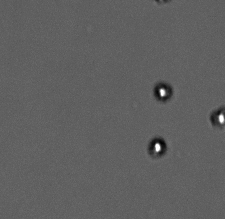Living Cell: (147, 136, 168, 157), (153, 81, 172, 101)
